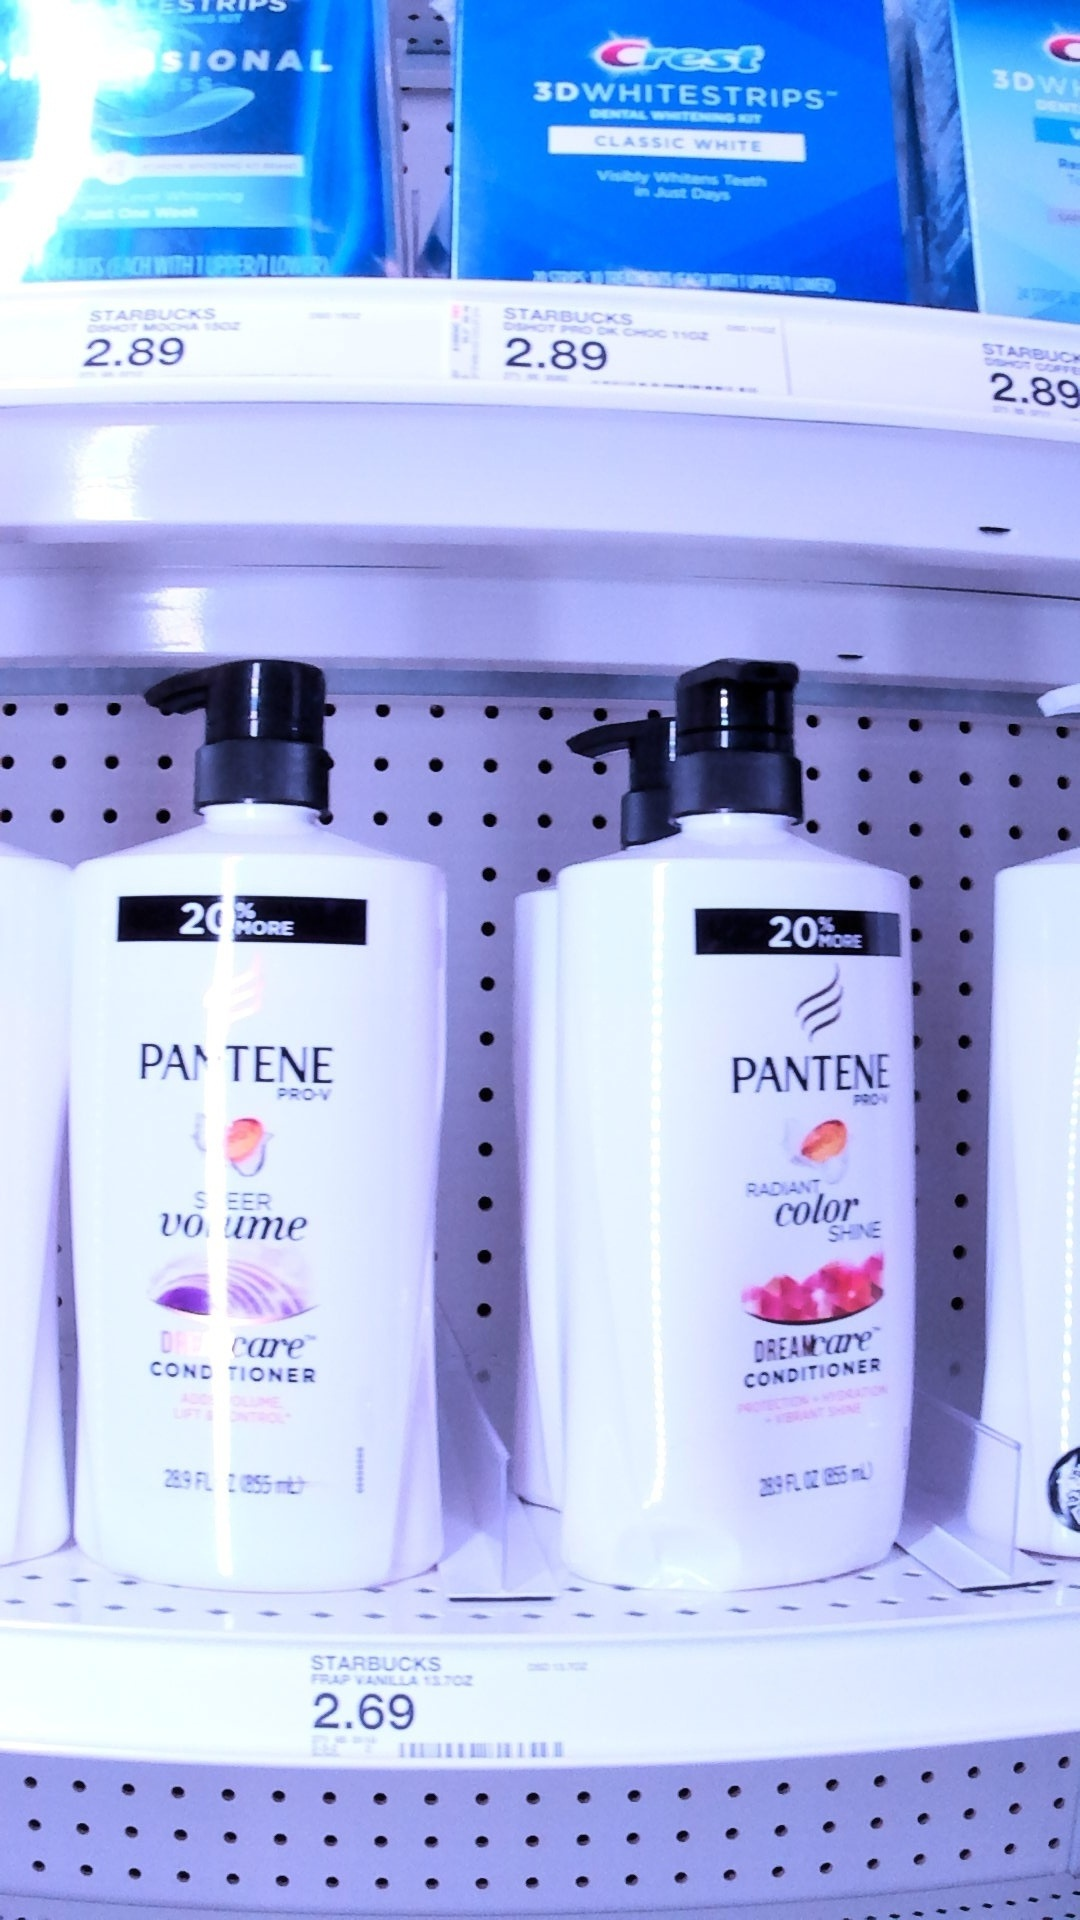ptag: (293, 1626, 611, 1780), (454, 277, 762, 413), (66, 297, 260, 406)
